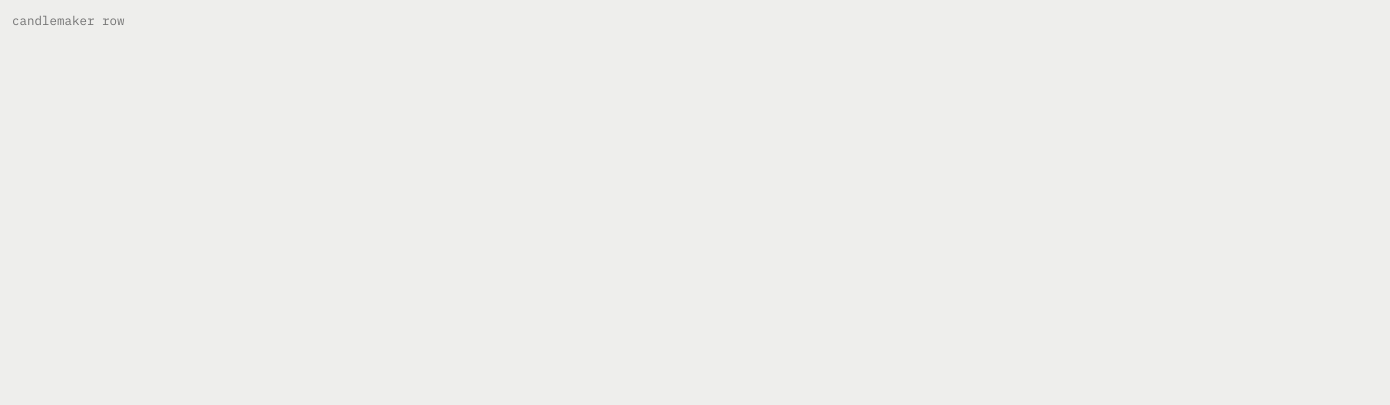
it: selects the last suggestion when keyboard navigation starts with Arrow Up
The width and height of the screenshot is (1390, 405).
Later steps or results of the test are not shown.
Click the dropdown at (695, 20), box [12,12,1378,28]
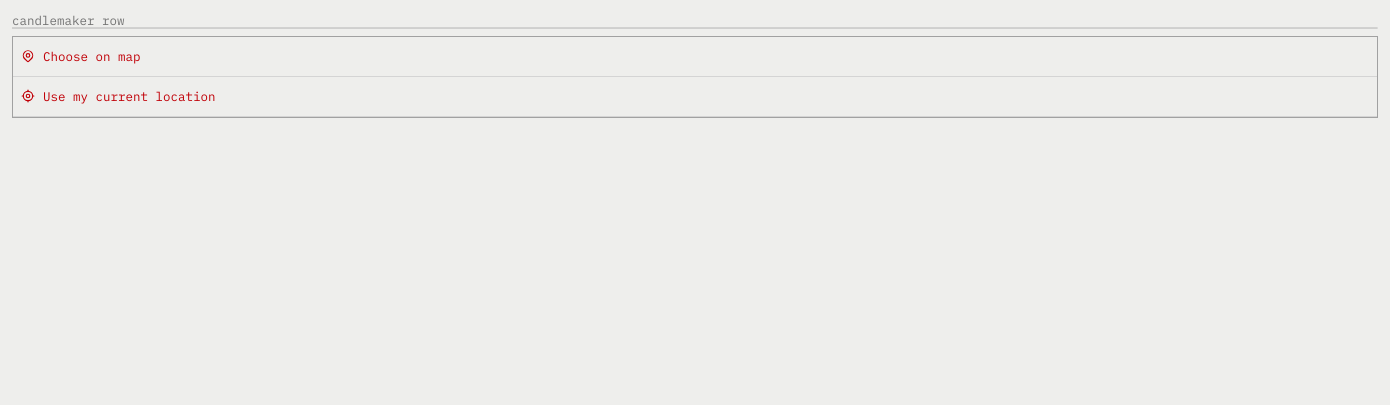
Click the button "Choose on map" at (92, 56), box [13,37,1377,77]
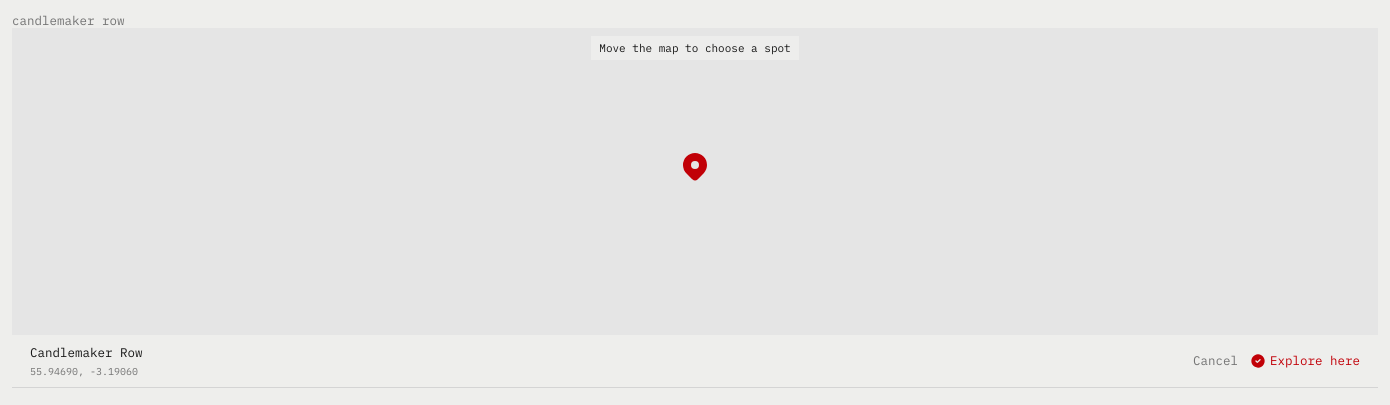
Type "place" into the dropdown at (695, 20), box [12,12,1378,28]
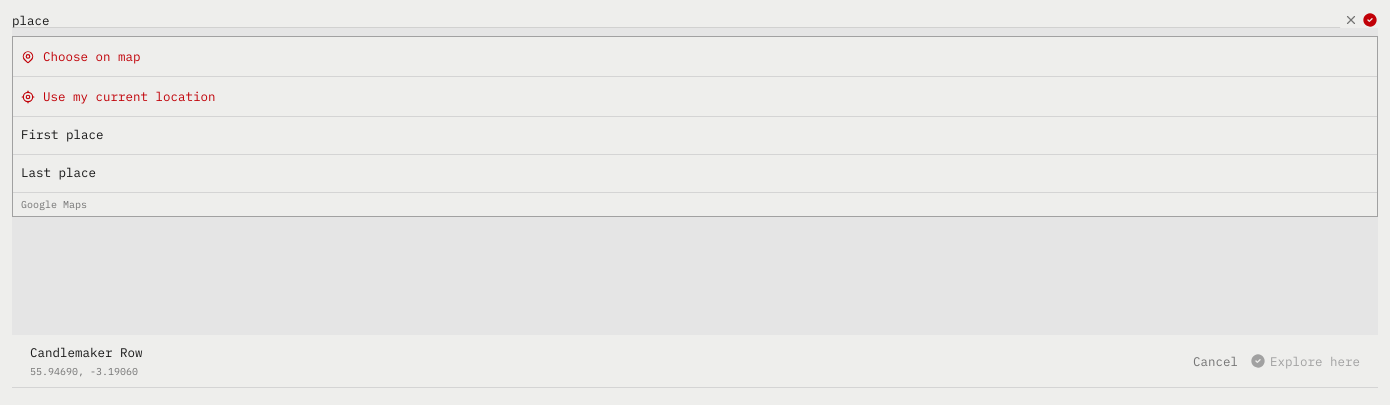
Now the option "Last place" is shown, box [13,155,1377,193]
